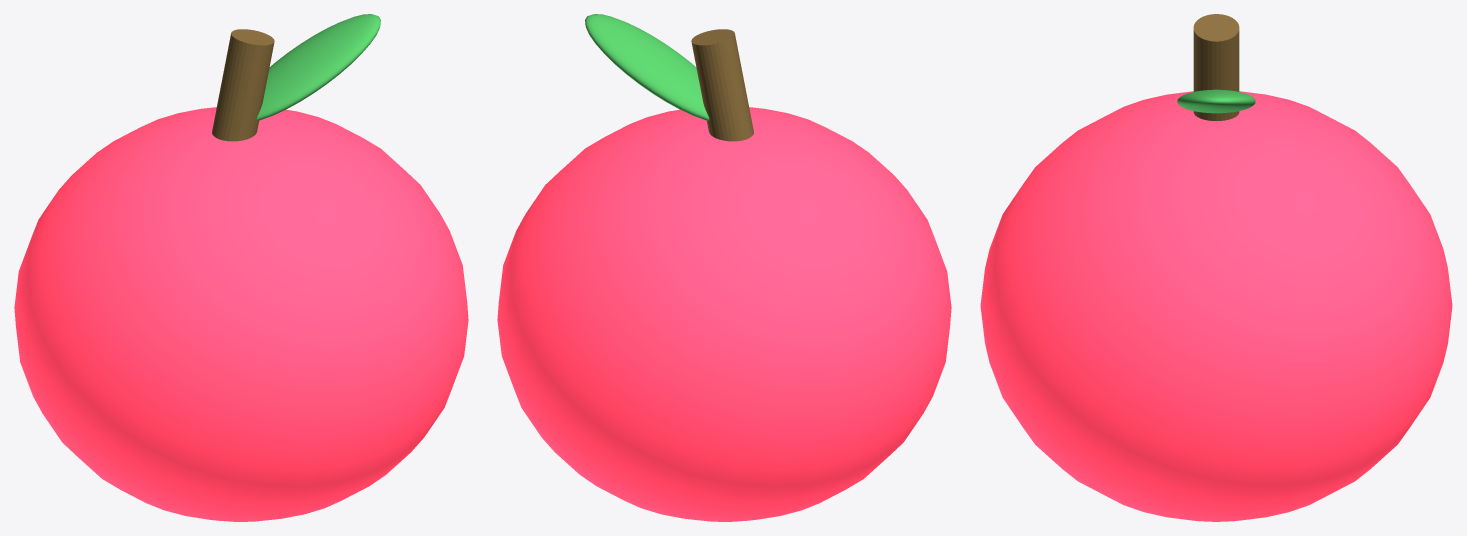
The model's file is apple.glb.
3 views of the same model, side by side, from view 1: azimuth 30°, elevation 25°; view 2: azimuth 150°, elevation 25°; view 3: azimuth 270°, elevation 25° (orthographic). The views are drawn at different scales.
Parts seen in each view (by area): view 1: Apple; view 2: Apple; view 3: Apple.
Boxes of the visible parts, box(x1,y1,x2,y2) form: Apple: box(14, 14, 468, 521); Apple: box(497, 14, 951, 521); Apple: box(980, 14, 1452, 521).
Size of the model in its own units: 0.72 by 0.8091 by 0.72.
